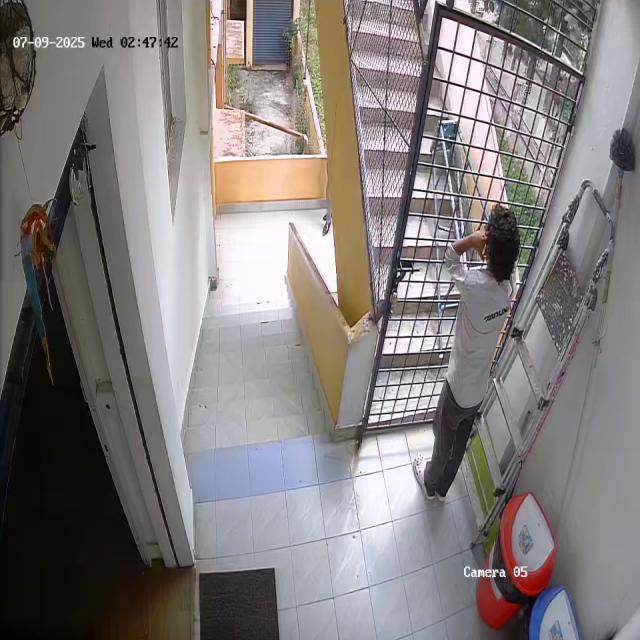person: (406, 204, 518, 498)
